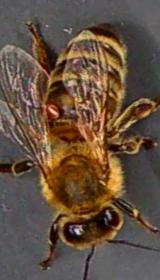varroa_mite: (38, 96, 66, 124)
